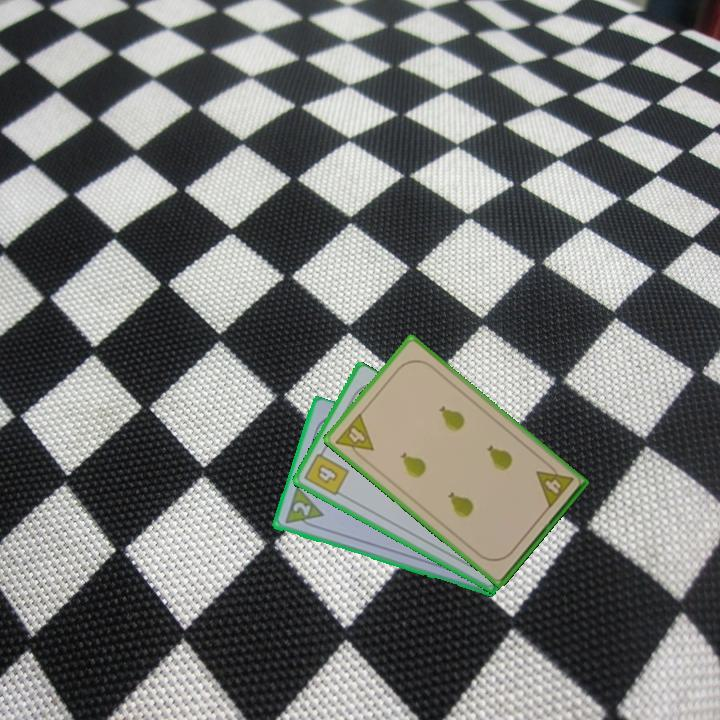2p: (281, 484, 326, 532)
4b: (301, 445, 352, 499)
4p: (331, 409, 377, 464), (532, 458, 576, 512)
